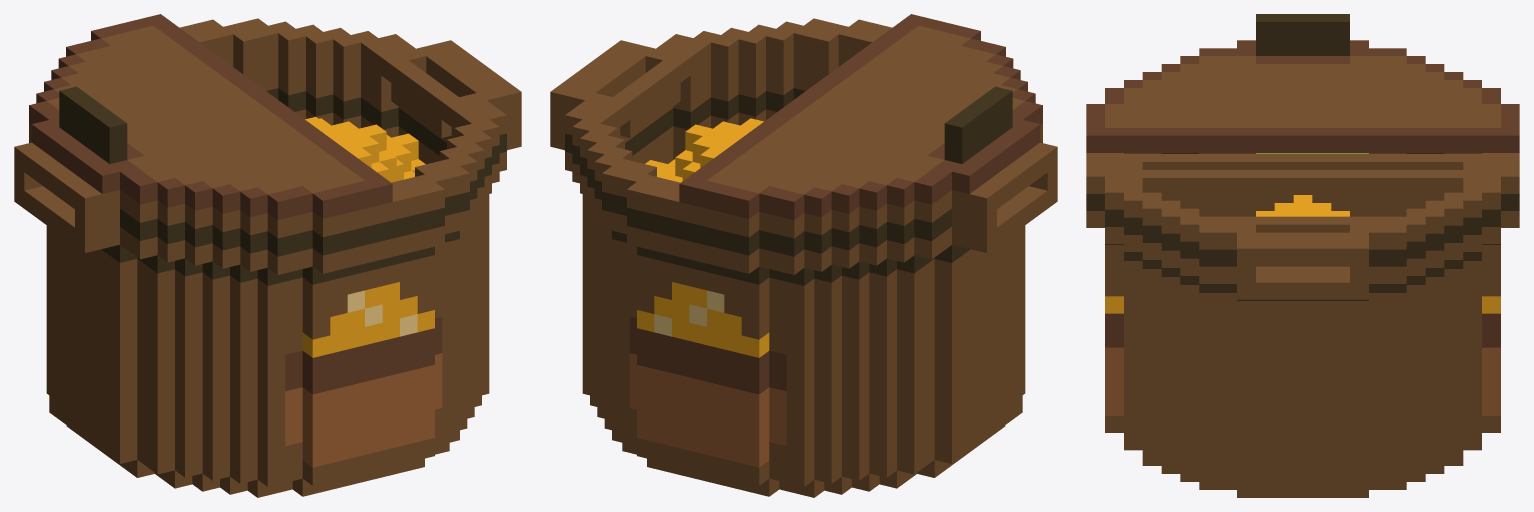
File: Box_Bread_Yellow.fbx
3 renders of one model, left to right at view 1: azimuth 30°, elevation 25°; view 2: azimuth 150°, elevation 25°; view 3: azimuth 270°, elevation 25°, orthographic. The views are drawn at different scales.
Visible parts, largest first — view 1: Box_Bread_Yellow:Box_Bread_Yellow; view 2: Box_Bread_Yellow:Box_Bread_Yellow; view 3: Box_Bread_Yellow:Box_Bread_Yellow.
Part boxes in pixels (bbox=[...]): Box_Bread_Yellow:Box_Bread_Yellow: bbox=[14, 14, 521, 497]; Box_Bread_Yellow:Box_Bread_Yellow: bbox=[550, 14, 1057, 497]; Box_Bread_Yellow:Box_Bread_Yellow: bbox=[1086, 14, 1519, 497].
Bounding box in the file's own units: 25 × 19 × 23.
